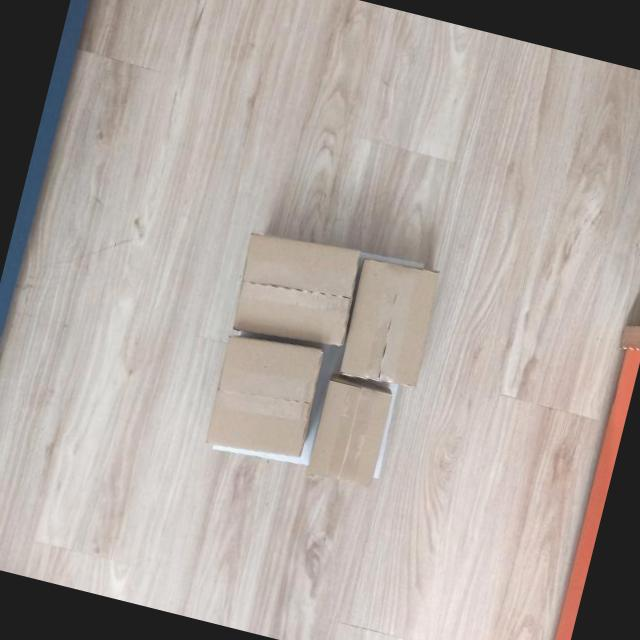box: (196, 322, 331, 468), (224, 220, 370, 354), (335, 252, 449, 396), (303, 374, 399, 490)
